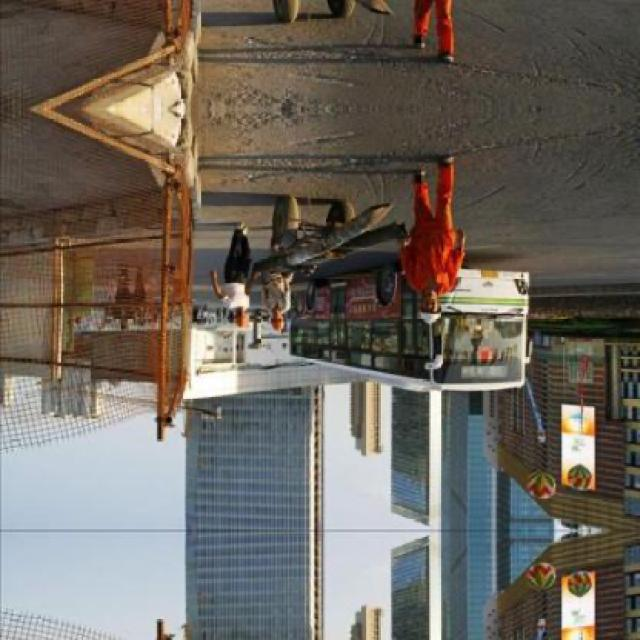con casco: (406, 295, 447, 322)
